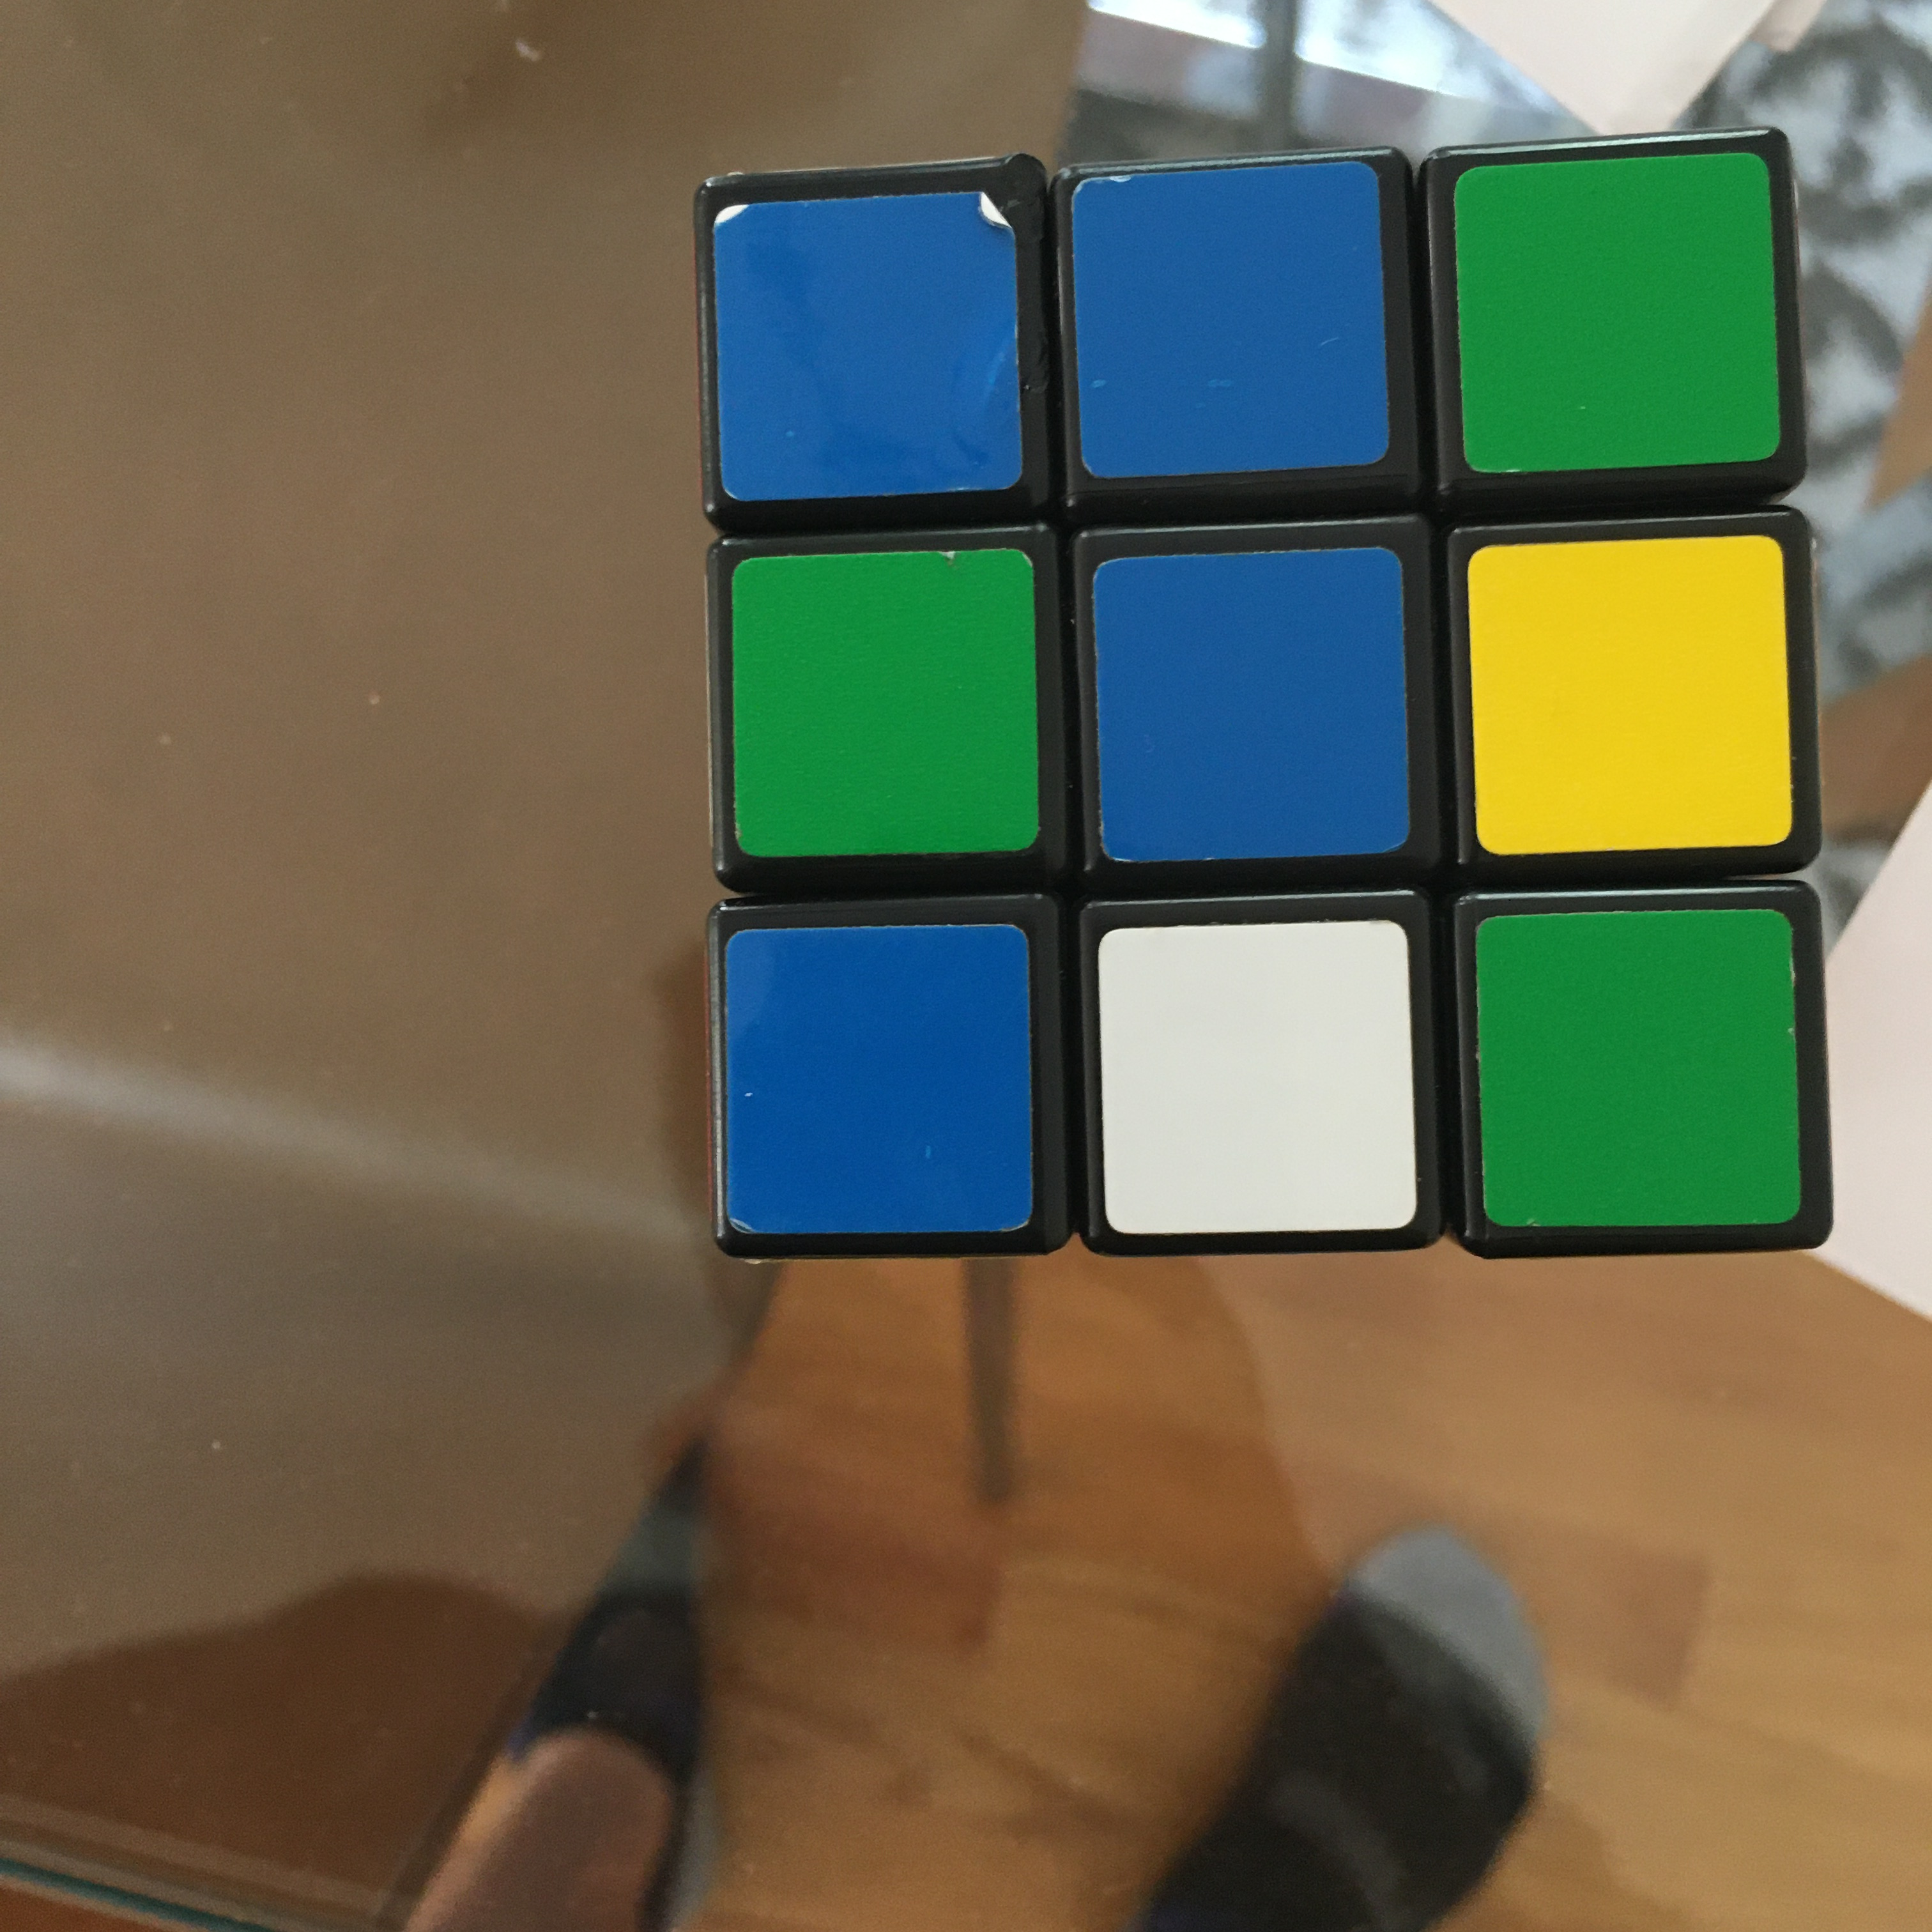face: (687, 134, 1820, 1257)
